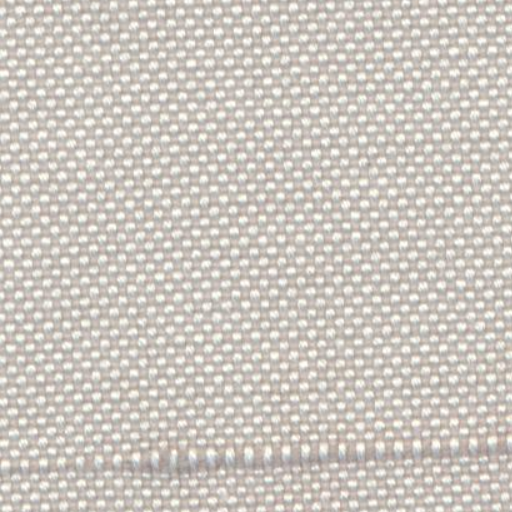DaiSha: (34, 426, 504, 482)
